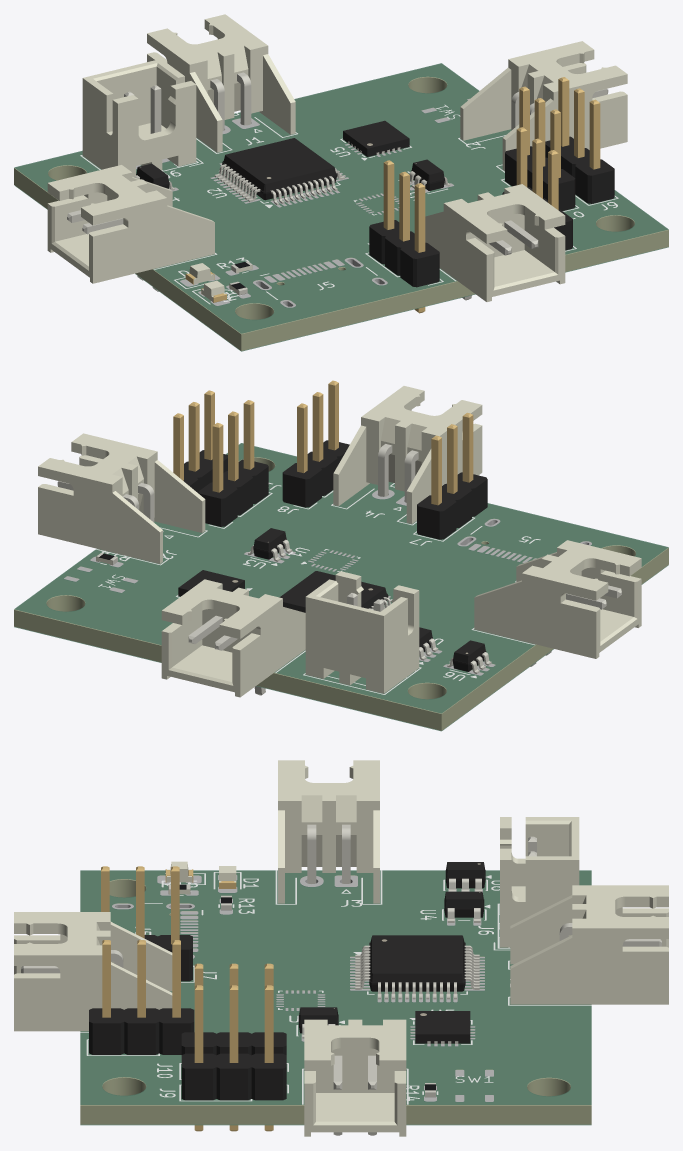
Rendered from drone-pcb.glb.
The picture shows the model from 3 angles, top to bottom: view 1: azimuth 30°, elevation 25°; view 2: azimuth 150°, elevation 25°; view 3: azimuth 270°, elevation 25°; orthographic projection. The views are drawn at different scales.
Parts seen in each view (by area): view 1: =>[0:1:1:30], =>[0:1:1:28], =>[0:1:1:9] (×4), =>[0:1:1:11] (×4), =>[0:1:1:3], =>[0:1:1:19], =>[0:1:1:25], =>[0:1:1:26], =>[0:1:1:13], =>[0:1:1:7] (×2), =>[0:1:1:29]; view 2: =>[0:1:1:9] (×4), =>[0:1:1:30], =>[0:1:1:28], =>[0:1:1:11] (×4), =>[0:1:1:3], =>[0:1:1:26], =>[0:1:1:25], =>[0:1:1:19], =>[0:1:1:17], =>[0:1:1:7], =>[0:1:1:13], =>[0:1:1:29]; view 3: =>[0:1:1:30], =>[0:1:1:28], =>[0:1:1:9] (×4), =>[0:1:1:11] (×4), =>[0:1:1:3], =>[0:1:1:19], =>[0:1:1:25], =>[0:1:1:26], =>[0:1:1:13], =>[0:1:1:7] (×2), =>[0:1:1:17], =>[0:1:1:29].
Boxes of the visible parts, x1=… form: =>[0:1:1:30]: x1=14, y1=64, x2=668, y2=350; =>[0:1:1:28]: x1=14, y1=63, x2=668, y2=333; =>[0:1:1:9] (×4): x1=47, y1=14, x2=627, y2=301; =>[0:1:1:11] (×4): x1=369, y1=77, x2=614, y2=313; =>[0:1:1:3]: x1=82, y1=59, x2=196, y2=176; =>[0:1:1:19]: x1=214, y1=138, x2=344, y2=205; =>[0:1:1:25]: x1=136, y1=99, x2=469, y2=307; =>[0:1:1:26]: x1=80, y1=104, x2=618, y2=304; =>[0:1:1:13]: x1=343, y1=120, x2=409, y2=156; =>[0:1:1:7] (×2): x1=134, y1=159, x2=450, y2=190; =>[0:1:1:29]: x1=14, y1=185, x2=668, y2=351; =>[0:1:1:9] (×4): x1=38, y1=386, x2=641, y2=697; =>[0:1:1:30]: x1=14, y1=444, x2=668, y2=730; =>[0:1:1:28]: x1=14, y1=443, x2=668, y2=713; =>[0:1:1:11] (×4): x1=173, y1=380, x2=487, y2=539; =>[0:1:1:3]: x1=305, y1=571, x2=419, y2=693; =>[0:1:1:26]: x1=95, y1=482, x2=540, y2=694; =>[0:1:1:25]: x1=64, y1=490, x2=591, y2=675; =>[0:1:1:19]: x1=279, y1=571, x2=390, y2=612; =>[0:1:1:17]: x1=447, y1=640, x2=491, y2=674; =>[0:1:1:7]: x1=248, y1=528, x2=292, y2=561; =>[0:1:1:13]: x1=178, y1=570, x2=244, y2=596; =>[0:1:1:29]: x1=14, y1=565, x2=668, y2=731; =>[0:1:1:30]: x1=80, y1=871, x2=591, y2=1124; =>[0:1:1:28]: x1=80, y1=870, x2=591, y2=1104; =>[0:1:1:9] (×4): x1=14, y1=760, x2=668, y2=1136; =>[0:1:1:11] (×4): x1=89, y1=866, x2=286, y2=1131; =>[0:1:1:3]: x1=500, y1=817, x2=579, y2=947; =>[0:1:1:19]: x1=355, y1=935, x2=479, y2=999; =>[0:1:1:25]: x1=112, y1=875, x2=493, y2=1101; =>[0:1:1:26]: x1=80, y1=870, x2=591, y2=1104; =>[0:1:1:13]: x1=415, y1=1011, x2=470, y2=1043; =>[0:1:1:7] (×2): x1=298, y1=891, x2=484, y2=1038; =>[0:1:1:17]: x1=445, y1=862, x2=485, y2=891; =>[0:1:1:29]: x1=80, y1=1124, x2=591, y2=1125.
Bounding box in the file's own units: 0.0515 × 0.0119 × 0.0475.
